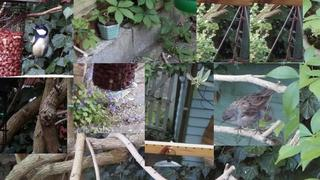dunnock: (220, 87, 275, 136)
great tit: (18, 24, 50, 63)
